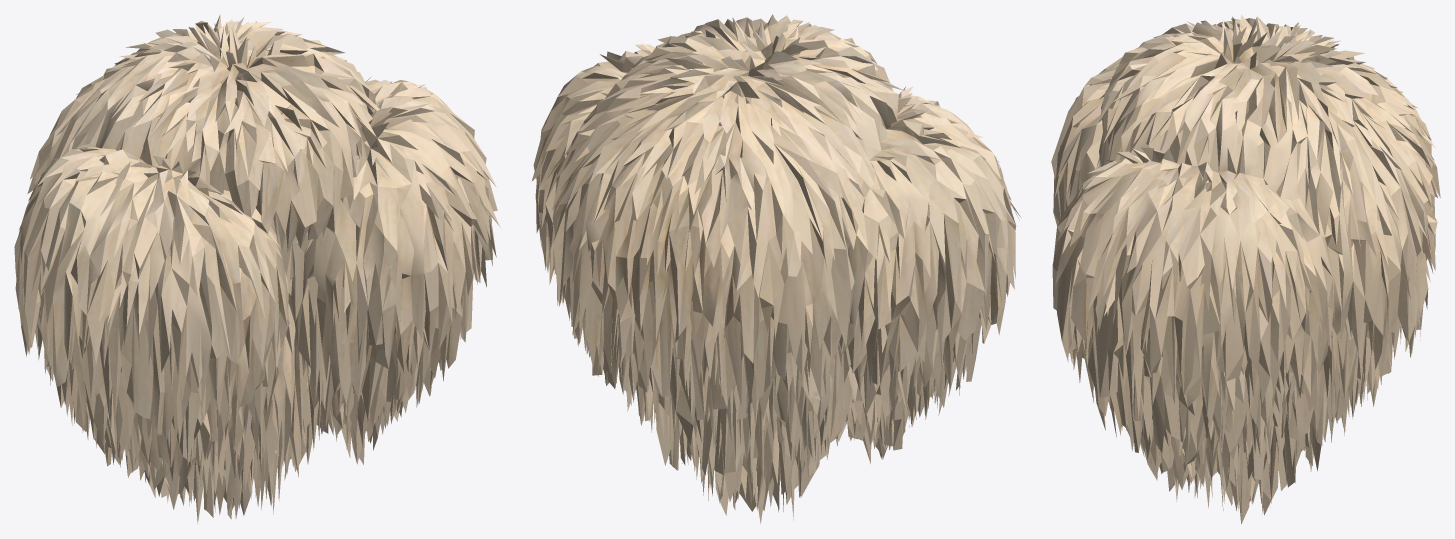
File: aslan.glb
3 views of the same model, side by side, from view 1: azimuth 30°, elevation 25°; view 2: azimuth 150°, elevation 25°; view 3: azimuth 270°, elevation 25° (orthographic).
Parts seen in each view (by area): view 1: output_unwrapped; view 2: output_unwrapped; view 3: output_unwrapped.
Part boxes in pixels (left/top/right/bottom): output_unwrapped: left=14, top=15, right=500, bottom=524; output_unwrapped: left=531, top=14, right=1020, bottom=523; output_unwrapped: left=1051, top=14, right=1440, bottom=524.
Bounding box in the file's own units: 1.81 × 1.9 × 1.39.
1 material, 1 textured.
